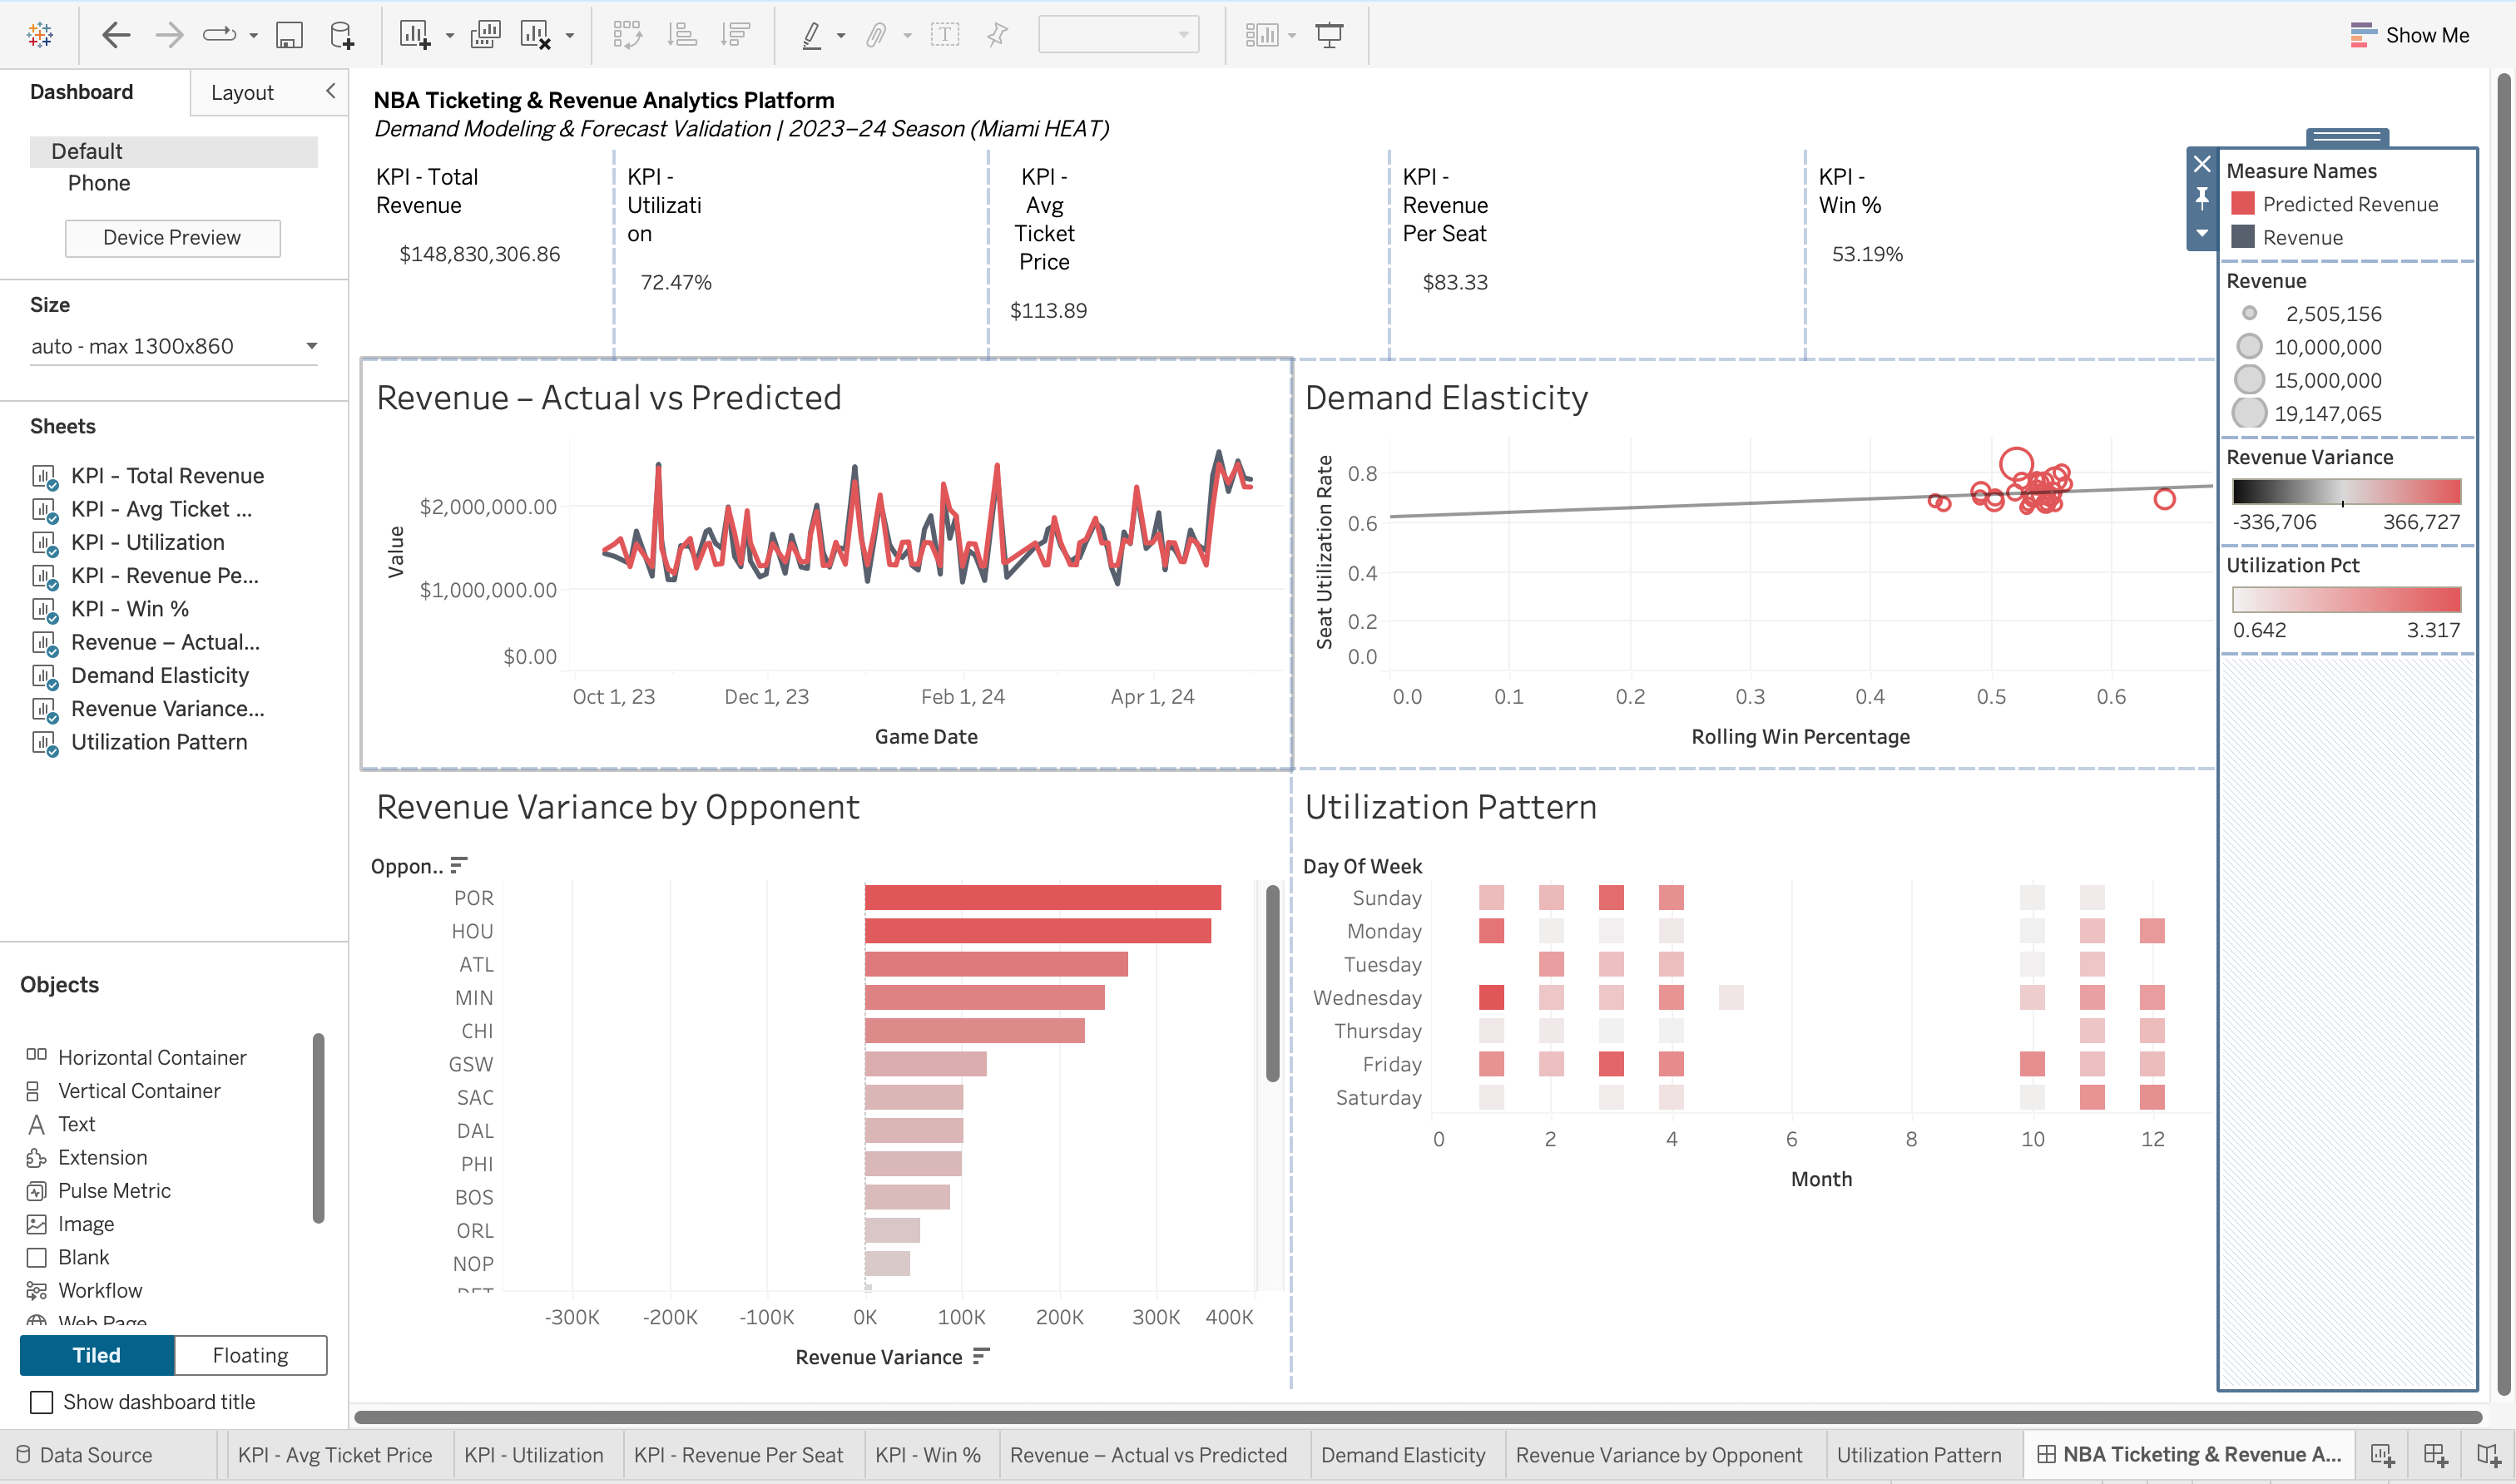

This screenshot's page, from the dashboard's own definition file:
{"tool":"tableau","page":{"name":"NBA Ticketing & Revenue Analytics Platform","canvas":[1000,1000],"units":"permille","ordinal":0},"visuals":[{"type":"title","box":[6.2,11.2,987.6,57.5]},{"type":"worksheet","title":"KPI - Total Revenue","mark":"Automatic","box":[6.2,68.7,117.2,156.1]},{"type":"worksheet","title":"KPI - Utilization","mark":"Automatic","box":[123.4,68.7,175.1,156.1]},{"type":"worksheet","title":"KPI - Avg Ticket Price","mark":"Automatic","box":[298.5,68.7,187.7,156.1]},{"type":"worksheet","title":"KPI - Revenue Per Seat","mark":"Automatic","box":[486.2,68.7,193.9,156.1]},{"type":"worksheet","title":"KPI - Win %","mark":"Automatic","box":[680.1,68.7,194,156.1]},{"type":"legend","title":"Revenue – Actual vs Predicted","param":"[federated.1l1o92j0b96fbl10en37e1tmg5i1].[:Measure Names]","box":[874,68.7,119.8,92.6]},{"type":"legend","title":"Demand Elasticity","param":"[federated.1l1o92j0b96fbl10en37e1tmg5i1].[sum:REVENUE:qk]","box":[874,161.3,119.8,148.7]},{"type":"worksheet","title":"Revenue – Actual vs Predicted","mark":"Automatic","cols":["GAME_DATE"],"box":[6.2,224.8,433.8,303.9]},{"type":"worksheet","title":"Demand Elasticity","mark":"Automatic","rows":["UTILIZATION_PCT"],"cols":["RUNNING_WIN_PCT"],"box":[440,224.8,434,303.9]},{"type":"legend","title":"Revenue Variance by Opponent","param":"[federated.1l1o92j0b96fbl10en37e1tmg5i1].[sum:REVENUE_VARIANCE:qk]","box":[874,310,119.8,91.2]},{"type":"legend","title":"Utilization Pattern","param":"[federated.1l1o92j0b96fbl10en37e1tmg5i1].[sum:UTILIZATION_PCT:qk]","box":[874,401.1,119.8,91.2]},{"type":"worksheet","title":"Revenue Variance by Opponent","mark":"Automatic","rows":["OPPONENT_ABBR"],"cols":["REVENUE_VARIANCE"],"box":[6.2,528.7,433.8,460.1]},{"type":"worksheet","title":"Utilization Pattern","mark":"Square","rows":["DAY_OF_WEEK"],"cols":["MONTH"],"box":[440,528.7,434,460.1]}]}

Visuals, with their boxes on the dashboard's canvas, which has no fixed pixel size, in thousandths of its width and height (x1, y1, x2, y2). These are canvas units, not pixel positions in the 2516x1484 screenshot, which may show the page scaled, cropped or inside an application window:
title: 6 11 994 69
"KPI - Total Revenue" worksheet: 6 69 123 225
"KPI - Utilization" worksheet: 123 69 298 225
"KPI - Avg Ticket Price" worksheet: 298 69 486 225
"KPI - Revenue Per Seat" worksheet: 486 69 680 225
"KPI - Win %" worksheet: 680 69 874 225
"Revenue – Actual vs Predicted" legend: 874 69 994 161
"Demand Elasticity" legend: 874 161 994 310
"Revenue – Actual vs Predicted" worksheet: 6 225 440 529
"Demand Elasticity" worksheet: 440 225 874 529
"Revenue Variance by Opponent" legend: 874 310 994 401
"Utilization Pattern" legend: 874 401 994 492
"Revenue Variance by Opponent" worksheet: 6 529 440 989
"Utilization Pattern" worksheet (Square marks): 440 529 874 989
